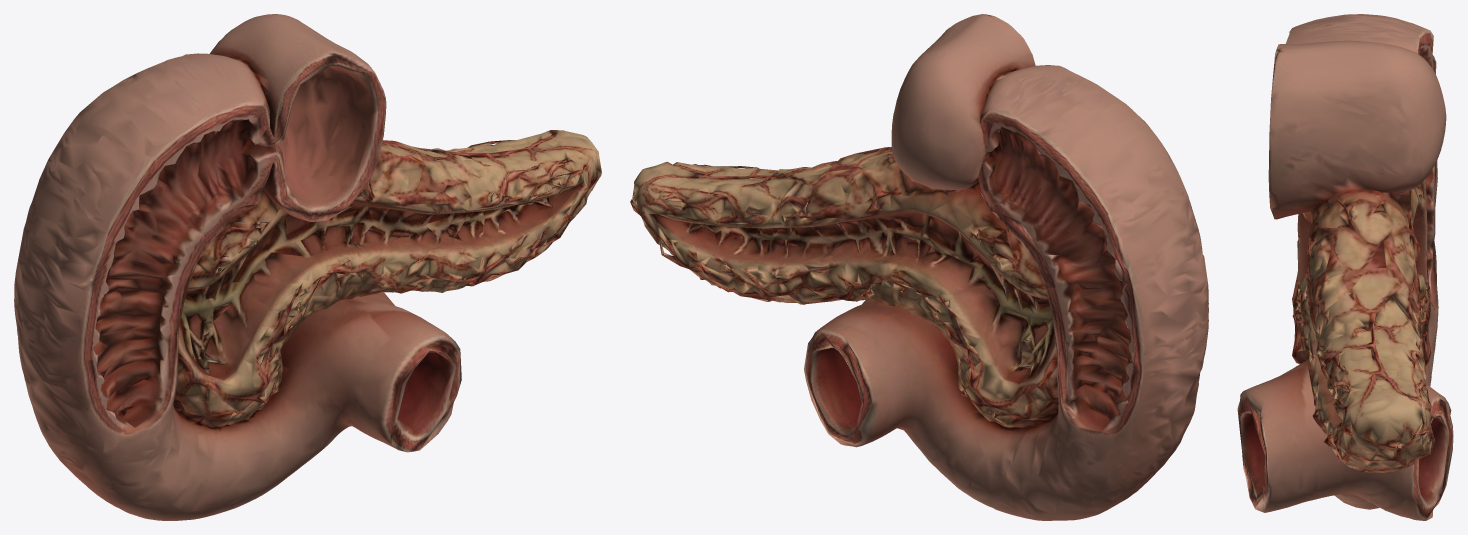
Rendered from pancreas.glb.
3 views of the same model, side by side, from view 1: azimuth 30°, elevation 25°; view 2: azimuth 150°, elevation 25°; view 3: azimuth 270°, elevation 25° (orthographic). The views are drawn at different scales.
Visible parts, largest first — view 1: tripo_node_5b720014-dffc-4c16-adab-27c54e78bc24; view 2: tripo_node_5b720014-dffc-4c16-adab-27c54e78bc24; view 3: tripo_node_5b720014-dffc-4c16-adab-27c54e78bc24.
Part boxes in pixels (left/top/right/bottom): tripo_node_5b720014-dffc-4c16-adab-27c54e78bc24: left=14, top=14, right=601, bottom=520; tripo_node_5b720014-dffc-4c16-adab-27c54e78bc24: left=630, top=14, right=1208, bottom=520; tripo_node_5b720014-dffc-4c16-adab-27c54e78bc24: left=1237, top=14, right=1453, bottom=520.
Bounding box in the file's own units: 0.9782 × 0.7722 × 0.3115.
1 material, 1 textured.
